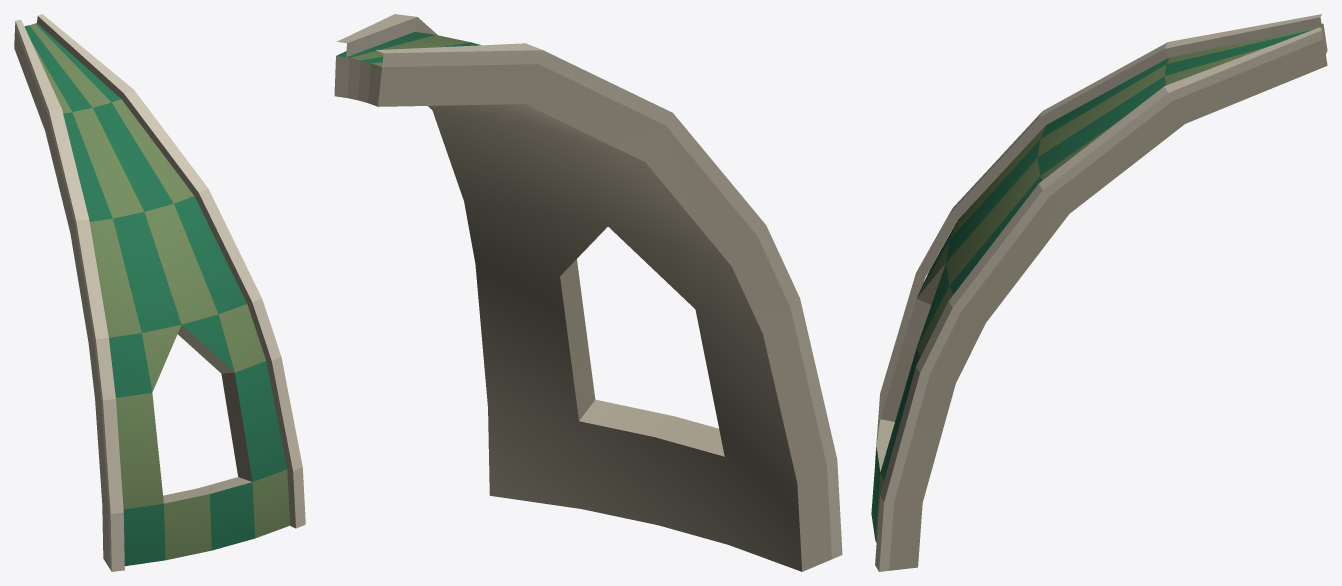
File: dome.panel_12_window.green.glb
3 renders of one model, left to right at view 1: azimuth 30°, elevation 25°; view 2: azimuth 150°, elevation 25°; view 3: azimuth 270°, elevation 25°, orthographic. The views are drawn at different scales.
Visible parts, largest first — view 1: dome_panel_12_window_green; view 2: dome_panel_12_window_green; view 3: dome_panel_12_window_green.
Part boxes in pixels (left/top/right/bottom): dome_panel_12_window_green: left=14, top=14, right=305, bottom=571; dome_panel_12_window_green: left=334, top=14, right=842, bottom=571; dome_panel_12_window_green: left=871, top=14, right=1327, bottom=571.
Size of what is drawn, in the model's own units: 1.85 by 3.63 by 3.06.
